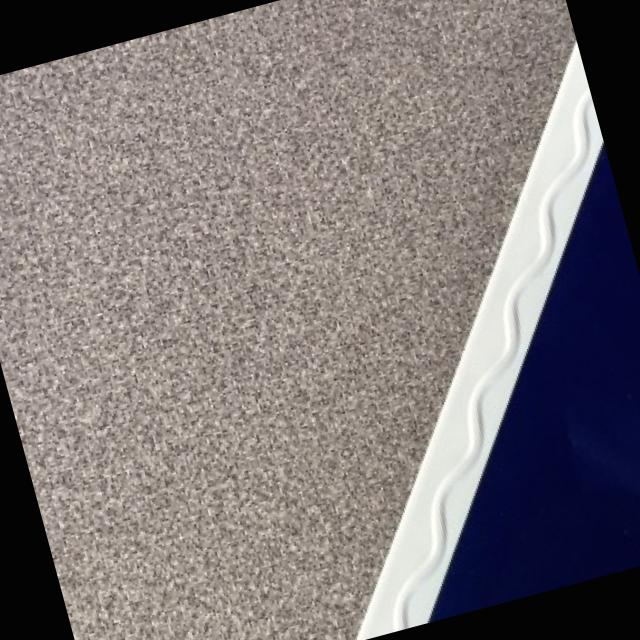healthy: (353, 44, 640, 640), (480, 106, 601, 430), (426, 424, 486, 576), (404, 576, 436, 626)
